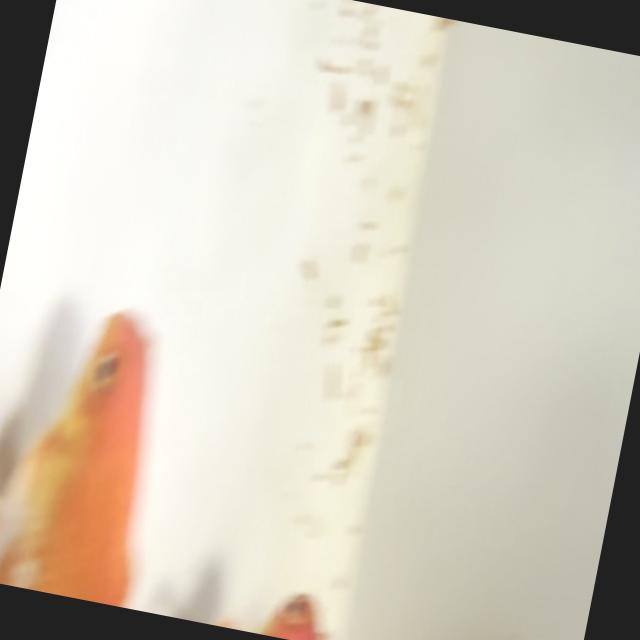fish: (0, 282, 186, 608)
